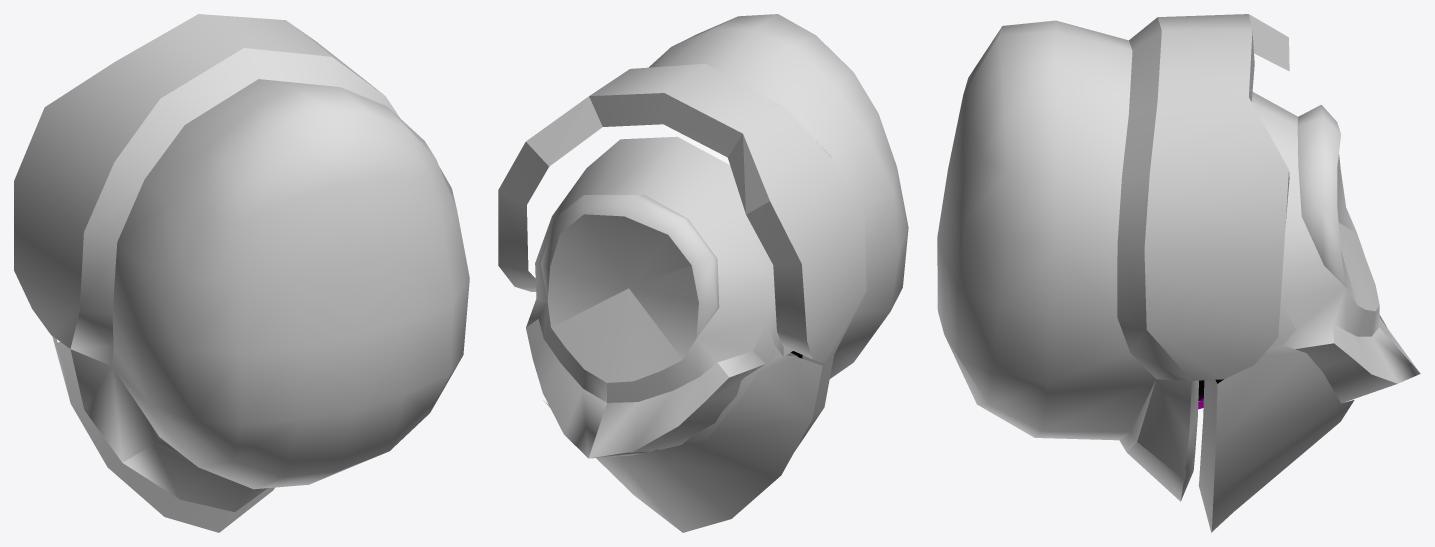
3 views of the same model, side by side, from view 1: azimuth 30°, elevation 25°; view 2: azimuth 150°, elevation 25°; view 3: azimuth 270°, elevation 25° (orthographic). The views are drawn at different scales.
Parts seen in each view (by area): view 1: ranger.model-MeshSets[mesh_ranger_1].Mesh[0], ranger.model-MeshSets[mesh_ranger_3].Mesh[0]; view 2: ranger.model-MeshSets[mesh_ranger_1].Mesh[0], ranger.model-MeshSets[mesh_ranger_2].Mesh[0], ranger.model-MeshSets[mesh_ranger_3].Mesh[0]; view 3: ranger.model-MeshSets[mesh_ranger_1].Mesh[0], ranger.model-MeshSets[mesh_ranger_3].Mesh[0], ranger.model-MeshSets[mesh_ranger_2].Mesh[0].
Part boxes in pixels (x1,y1,x2,y2): ranger.model-MeshSets[mesh_ranger_1].Mesh[0]: [14, 14, 469, 489]; ranger.model-MeshSets[mesh_ranger_3].Mesh[0]: [52, 336, 274, 532]; ranger.model-MeshSets[mesh_ranger_1].Mesh[0]: [498, 14, 908, 450]; ranger.model-MeshSets[mesh_ranger_2].Mesh[0]: [526, 124, 783, 458]; ranger.model-MeshSets[mesh_ranger_3].Mesh[0]: [543, 355, 822, 532]; ranger.model-MeshSets[mesh_ranger_1].Mesh[0]: [937, 14, 1379, 479]; ranger.model-MeshSets[mesh_ranger_3].Mesh[0]: [1127, 344, 1354, 532]; ranger.model-MeshSets[mesh_ranger_2].Mesh[0]: [1280, 266, 1420, 403].
Bounding box in the file's own units: 0.4925 × 0.6902 × 0.6012.
Materials: 2 (1 with a texture image).
